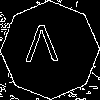V: (25, 25, 59, 71)
